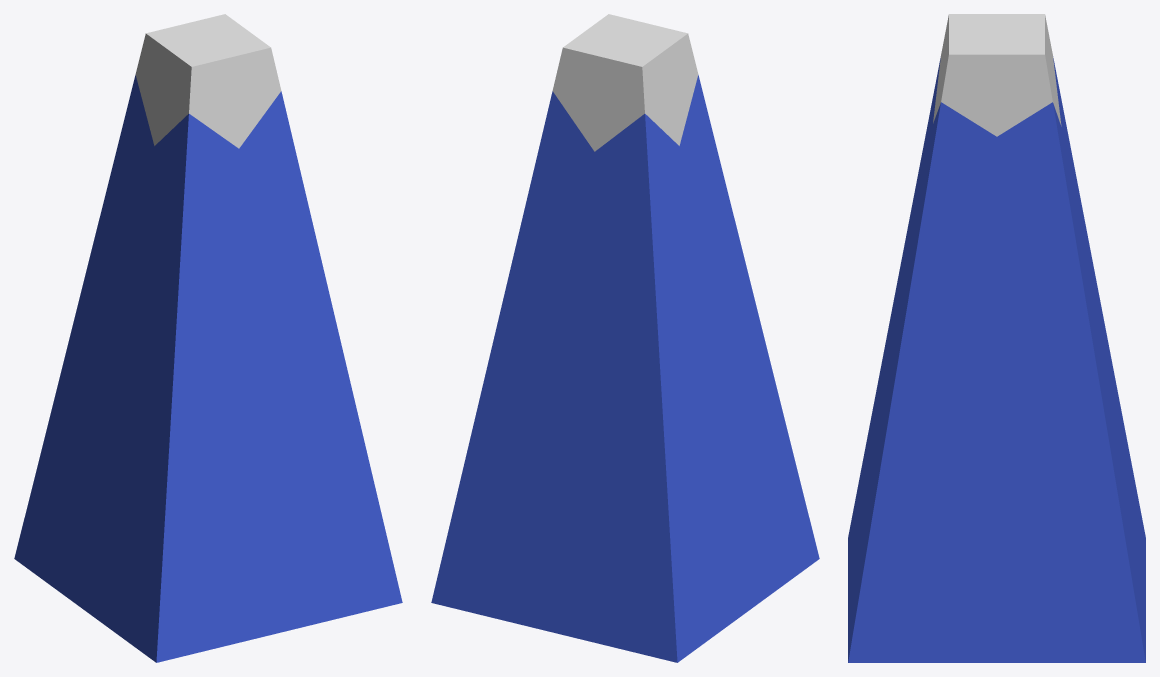
Rendered from Mountain.fbx.
The picture shows the model from 3 angles, left to right: view 1: azimuth 30°, elevation 25°; view 2: azimuth 150°, elevation 25°; view 3: azimuth 270°, elevation 25°; orthographic projection. The views are drawn at different scales.
Parts seen in each view (by area): view 1: Cube; view 2: Cube; view 3: Cube.
Boxes of the visible parts, x1=… form: Cube: x1=14, y1=14, x2=402, y2=662; Cube: x1=431, y1=14, x2=819, y2=662; Cube: x1=848, y1=14, x2=1145, y2=662.
Bounding box in the file's own units: 510 × 1069 × 510.
